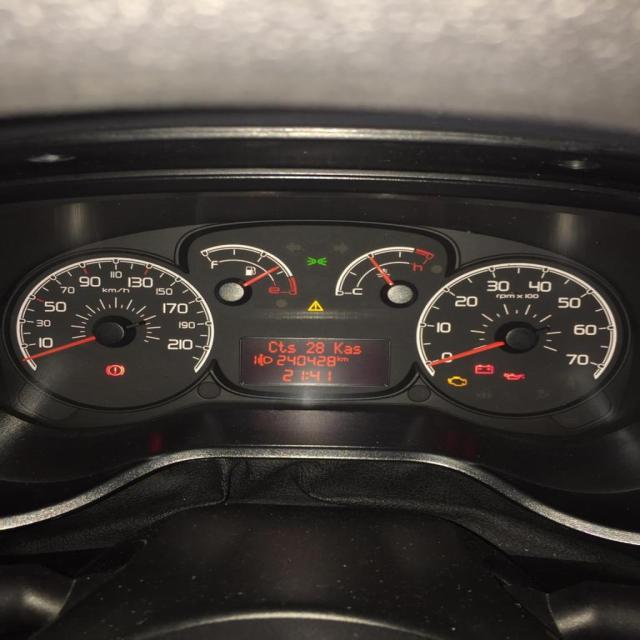odometer: (237, 333, 391, 388)
